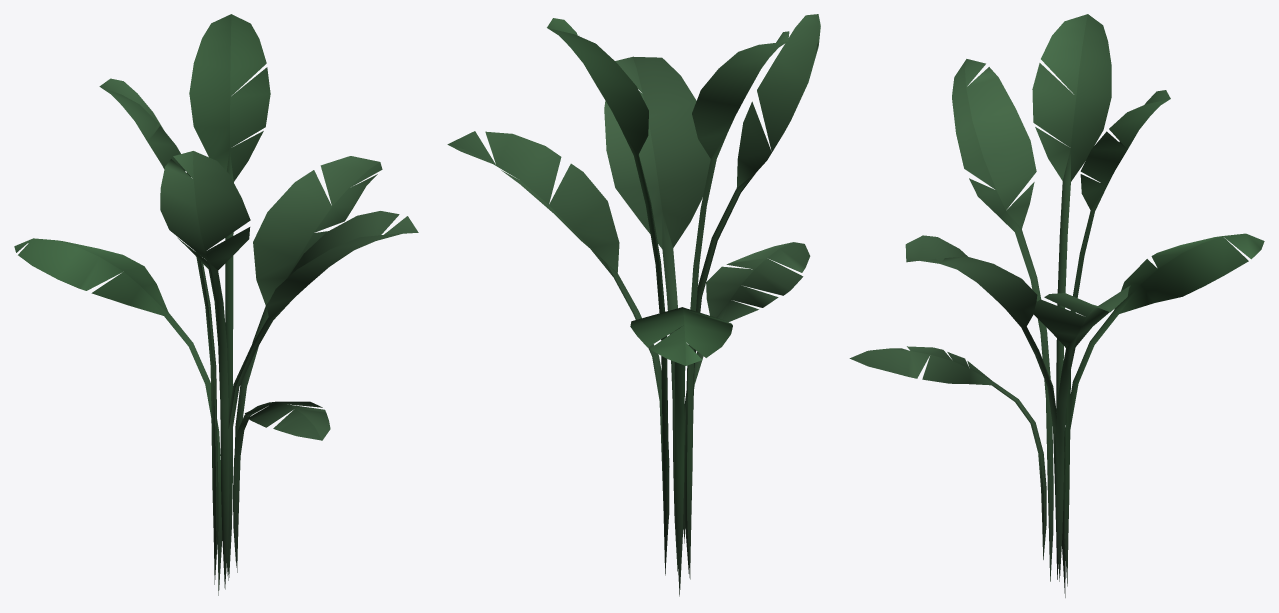
File: plants-leafy-plants-broadleaf-plant_v5.fbx
3 renders of one model, left to right at view 1: azimuth 30°, elevation 25°; view 2: azimuth 150°, elevation 25°; view 3: azimuth 270°, elevation 25°, orthographic. The views are drawn at different scales.
Visible parts, largest first — view 1: Broadleaf Plant_v5; view 2: Broadleaf Plant_v5; view 3: Broadleaf Plant_v5.
Boxes of the visible parts, bbox=[...] form: Broadleaf Plant_v5: bbox=[14, 14, 418, 595]; Broadleaf Plant_v5: bbox=[447, 14, 820, 596]; Broadleaf Plant_v5: bbox=[849, 14, 1264, 597].
Size of the model in its own units: 0.351 by 0.6 by 0.4244.
